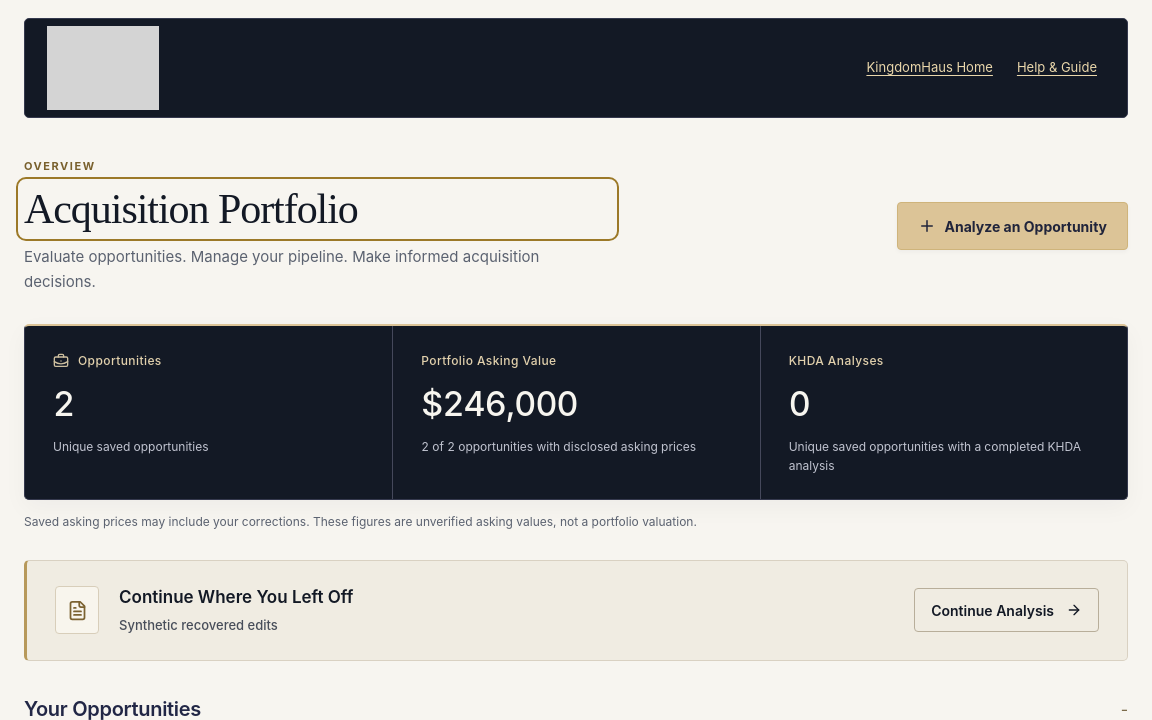
Test: Acquisition Workspace with a synthetic cloud repository › protects the current draft before a new scan and leaves named records untouched
The image size is (1152, 720).
Expected: the heading "Acquisition Portfolio" is shown, [24, 186, 358, 232]
Click the button "Analyze an Opportunity": (1012, 226) [897, 202, 1128, 250]
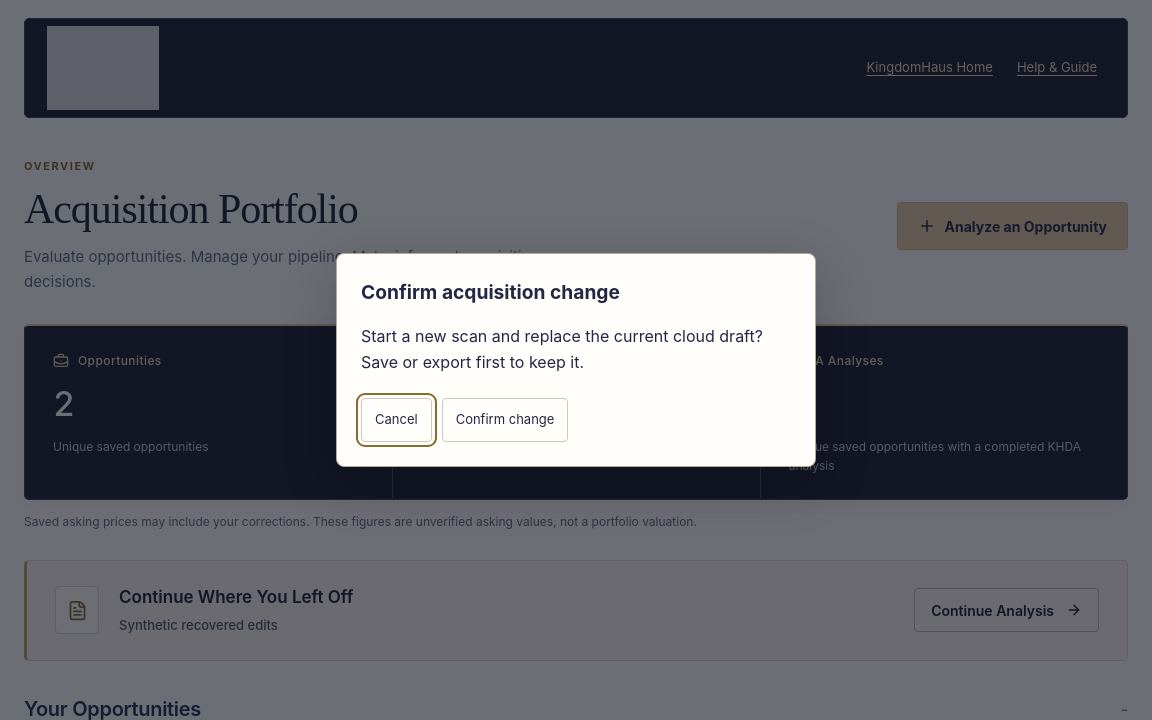
Expected: the heading "Acquisition Portfolio" is shown, [24, 186, 358, 232]
Click the button "Cancel": (396, 420) [361, 398, 432, 442]
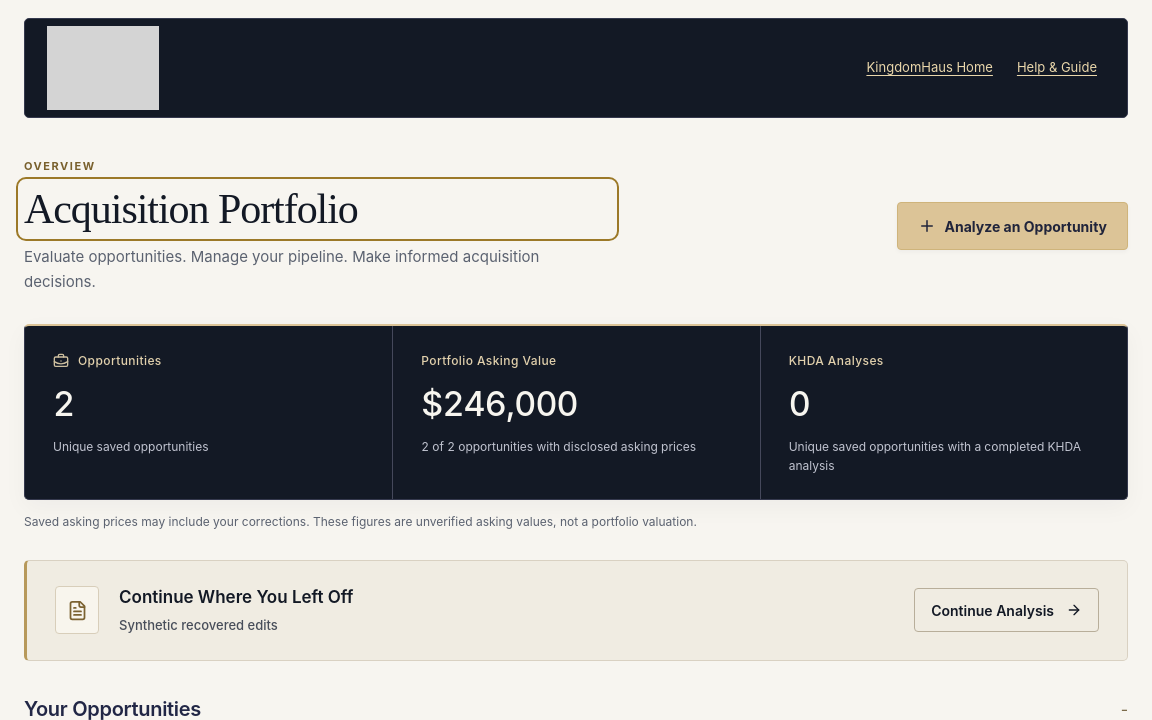
Click the button "Analyze an Opportunity": (1012, 226) [897, 202, 1128, 250]
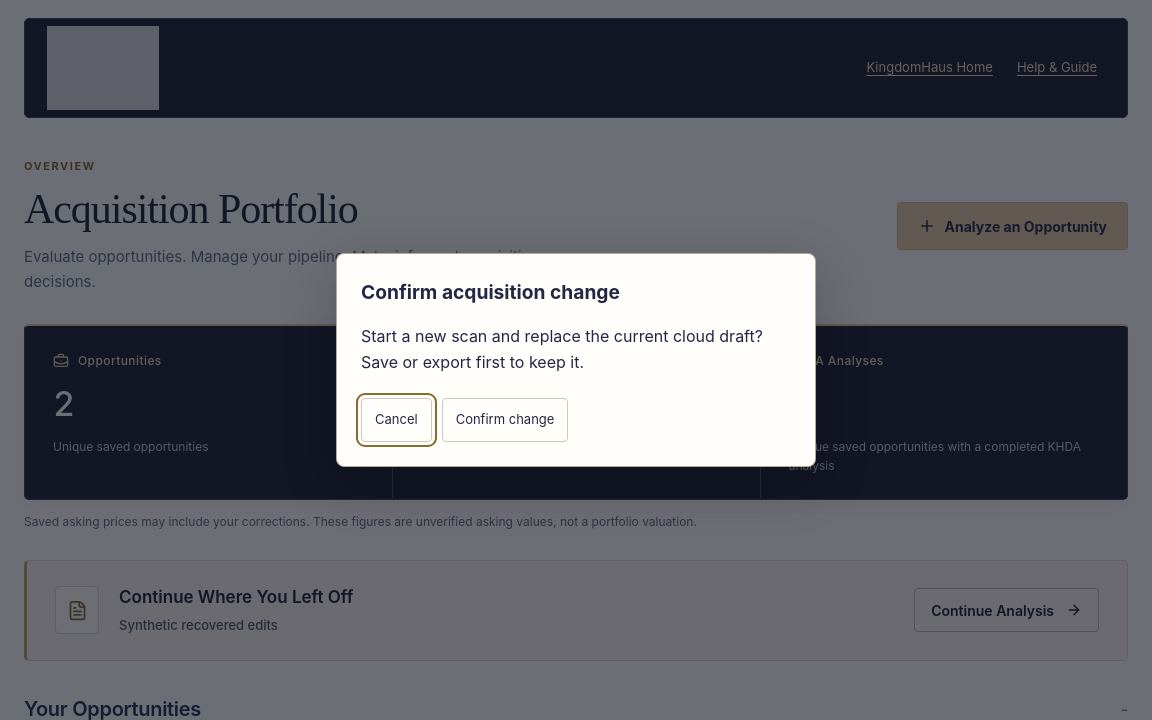
Click the button "Confirm change": (505, 420) [442, 398, 568, 442]
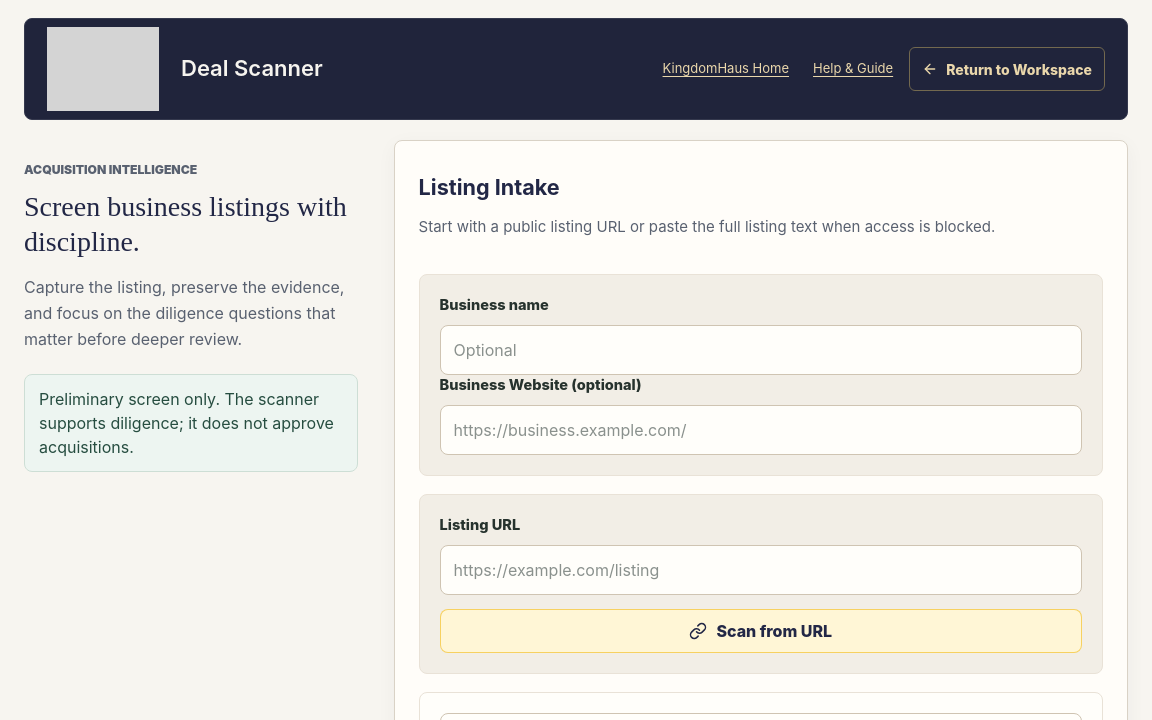
Now the heading "Listing Intake" is shown, box [419, 174, 560, 200]
